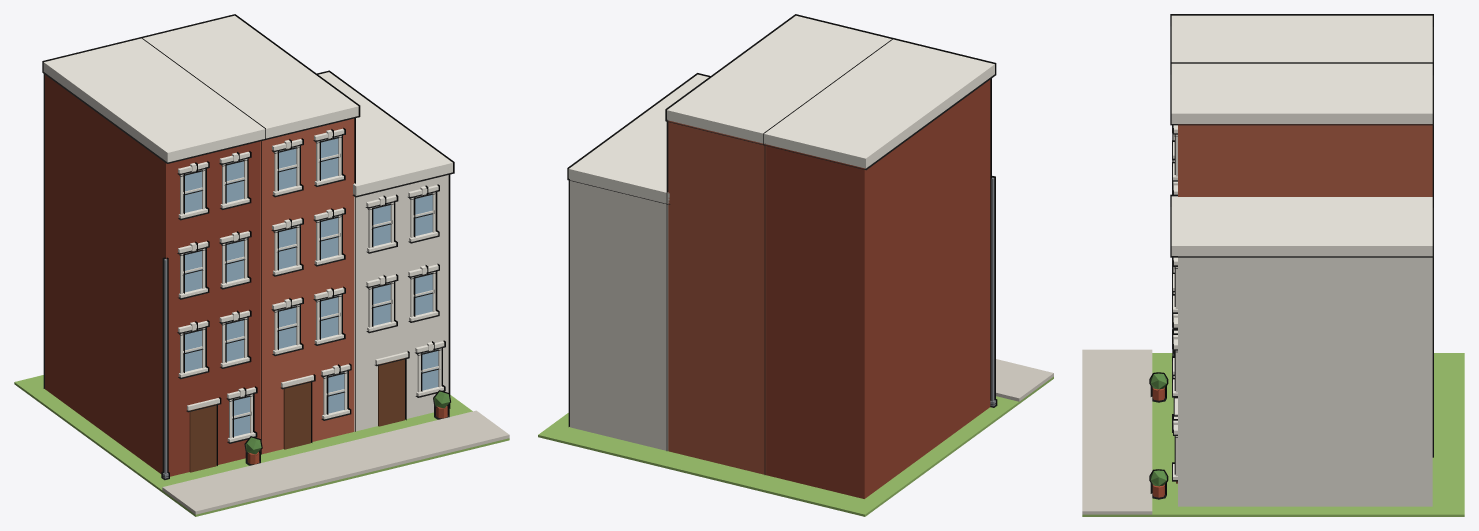
File: Konut_sira_evler_2.fbx
3 renders of one model, left to right at view 1: azimuth 30°, elevation 25°; view 2: azimuth 150°, elevation 25°; view 3: azimuth 270°, elevation 25°, orthographic. The views are drawn at different scales.
Visible parts, largest first — view 1: Konut_sira_evler_2; view 2: Konut_sira_evler_2; view 3: Konut_sira_evler_2.
Part boxes in pixels (box(x1,y1,x2,y2)): Konut_sira_evler_2: box(14, 14, 509, 516); Konut_sira_evler_2: box(538, 14, 1053, 516); Konut_sira_evler_2: box(1082, 14, 1464, 516).
Size of the model in its own units: 12 by 12.07 by 12.
